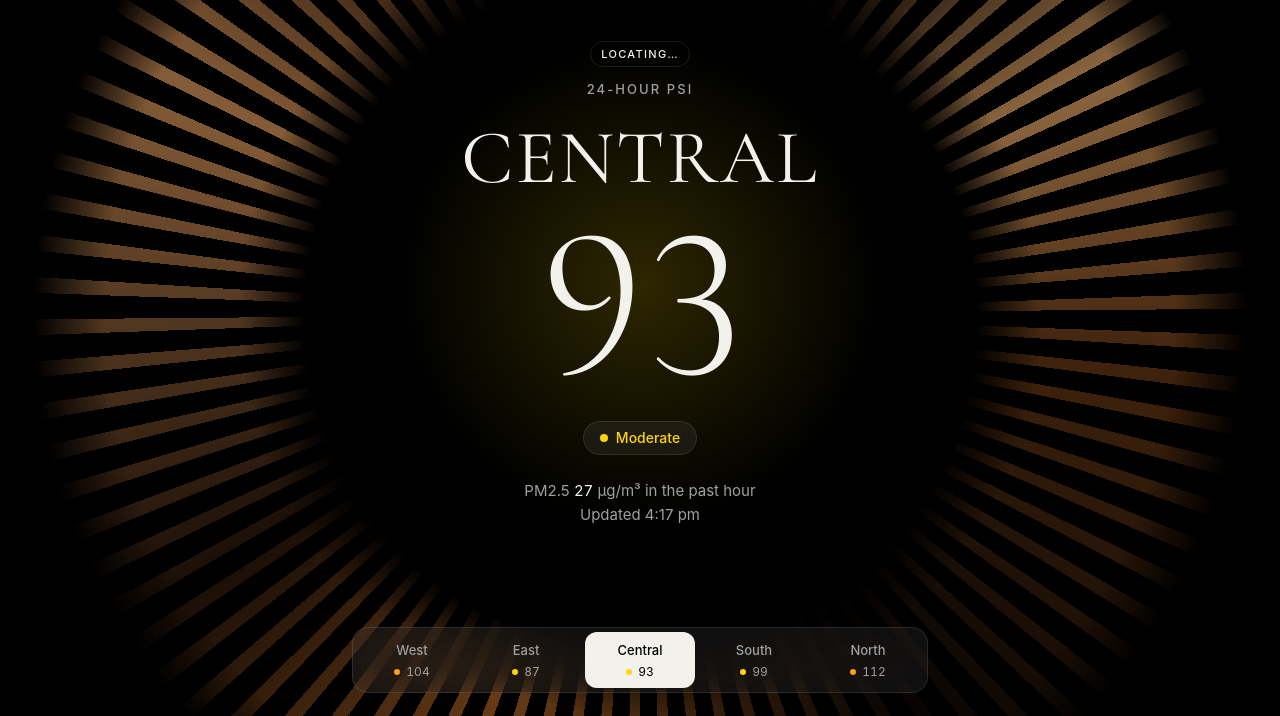
Test: PsiApp › swaps regions instantly from data already loaded
Expected: the panel is shown, [461,40,819,527]
Click the tab "North 112": click(868, 660) [813,632,923,688]
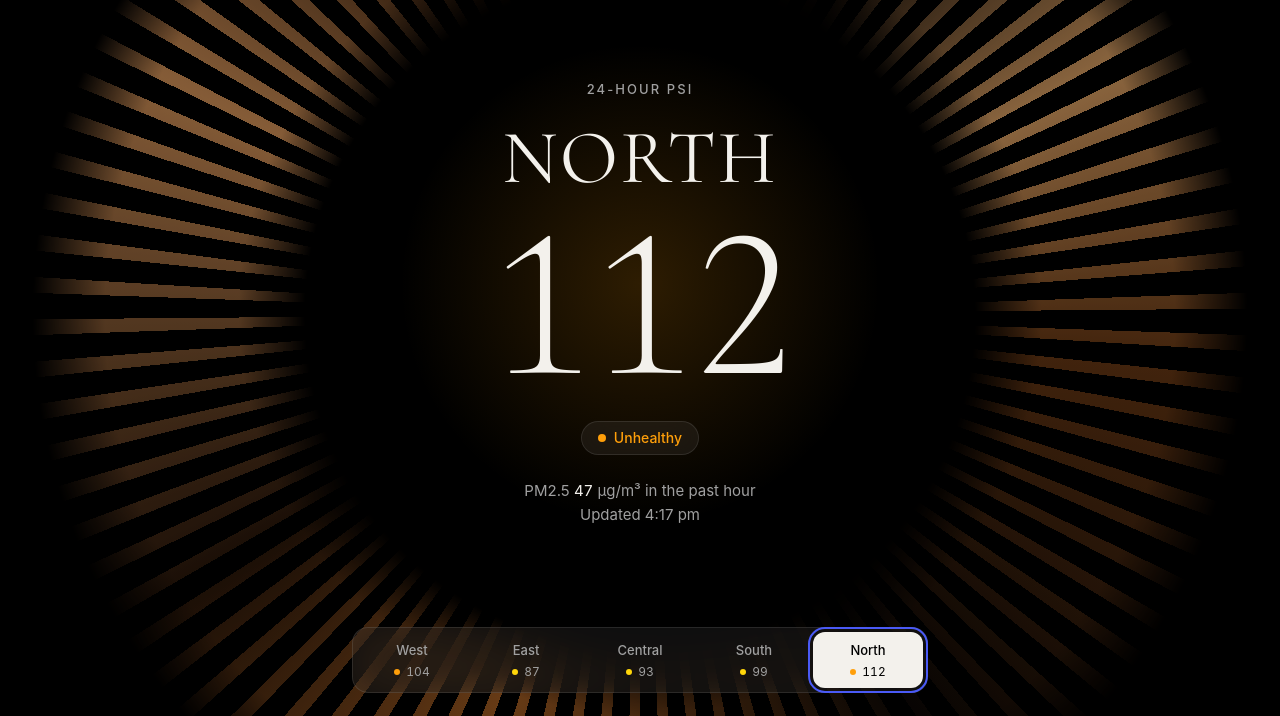
Expected: the heading reads "North", [502,112,778,204]
Expected: the panel shows "Unhealthy", [614,429,682,446]
